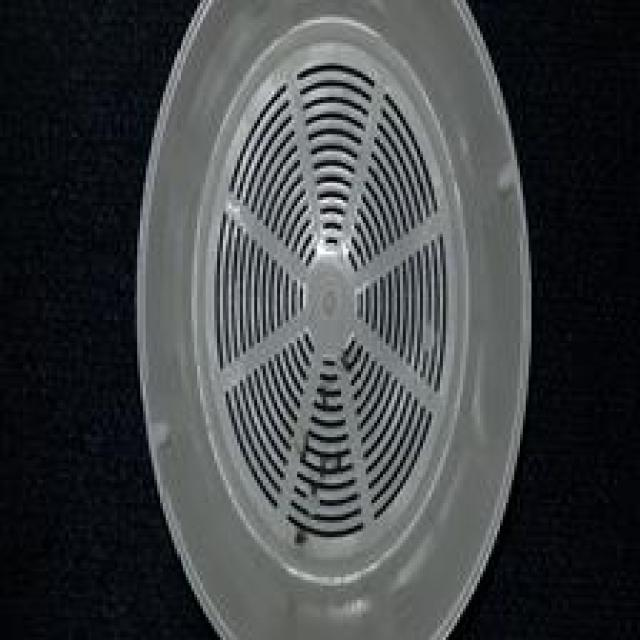Culex: (135, 0, 534, 640)
